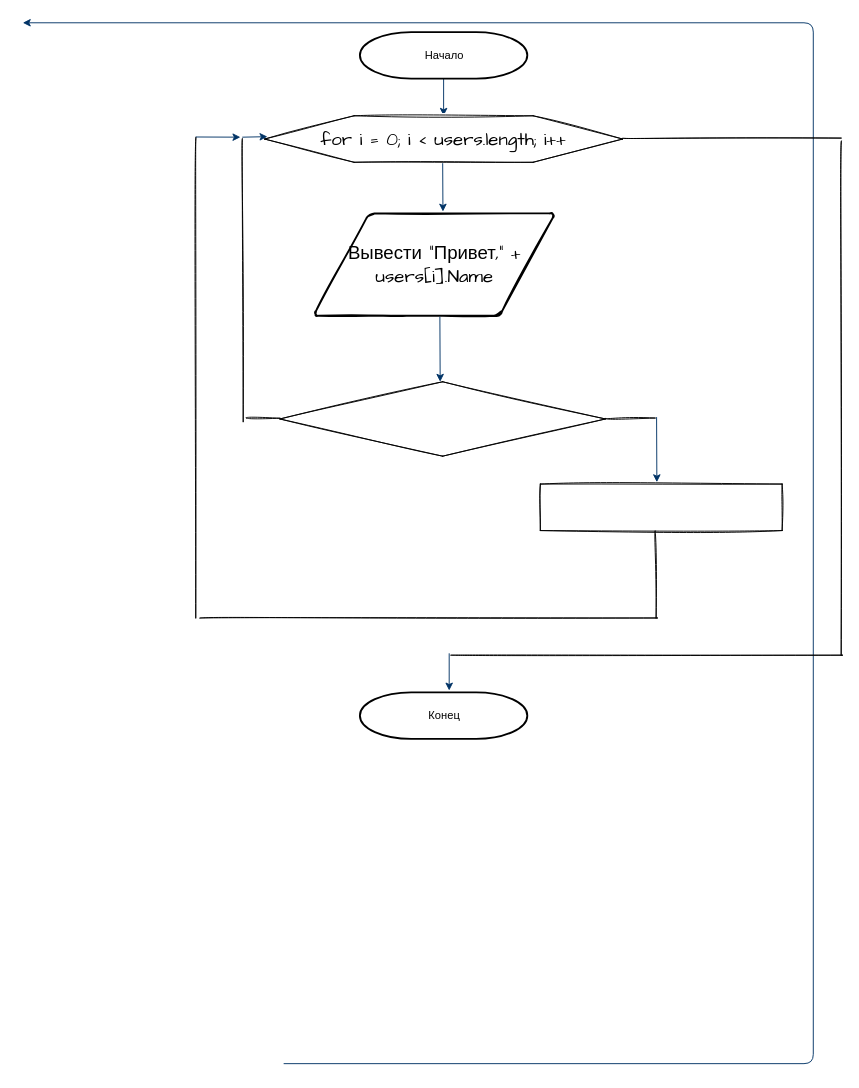
The diagram is 859 pixels wide and 1088 high, and some of its shapes have lost their labels. Here are the shapes that lost their labels. From the top down, the centre of each, then its label:
the point at 442,418: !users[i].IsPremium
the point at 660,507: ShowAds ()
